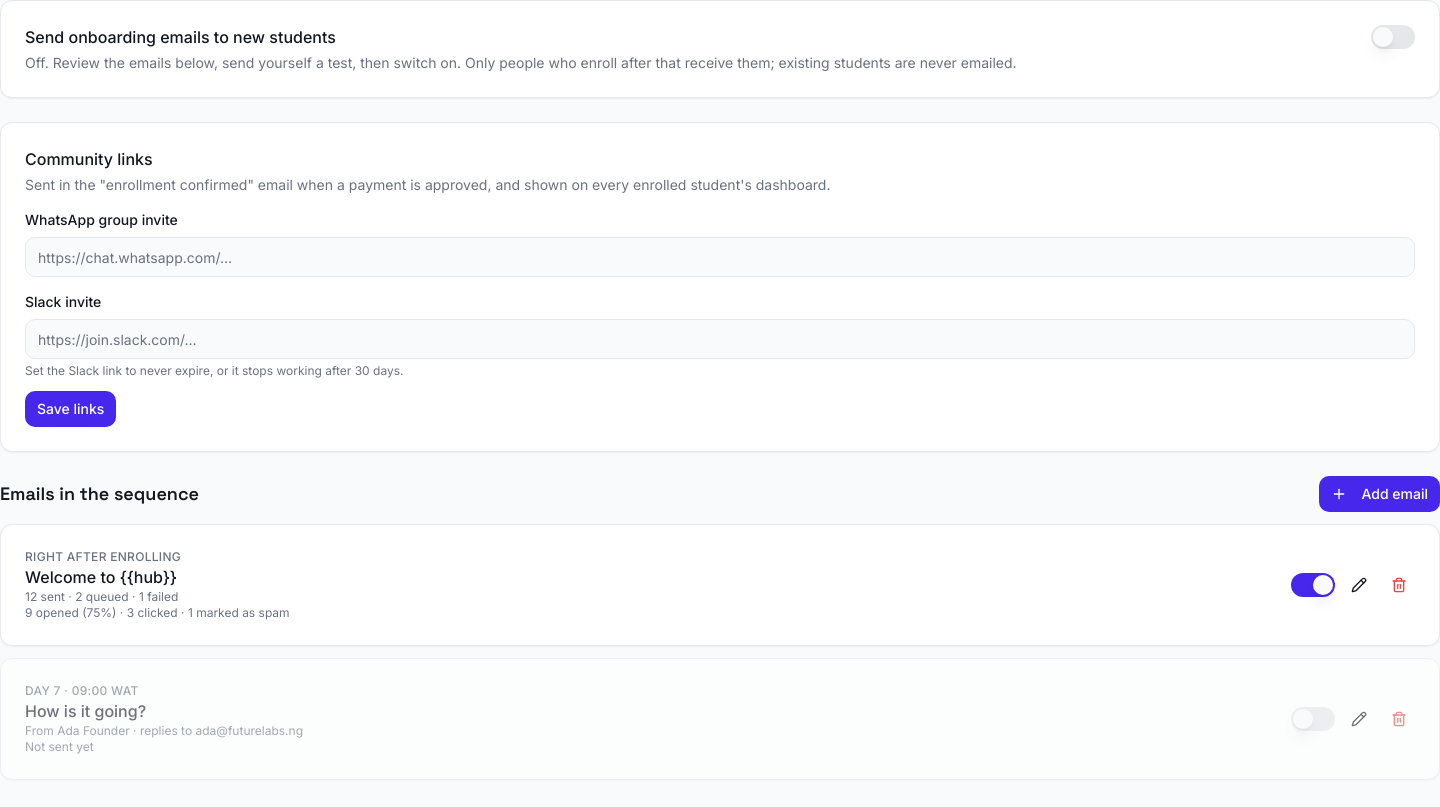
Test: OnboardingPanel › edits a step, sends a test and saves
Later steps or results of the test are not shown.
Click the button named "Edit “Welcome to {{hub}}”".
click(1359, 585)  # box [1343,569,1375,601]
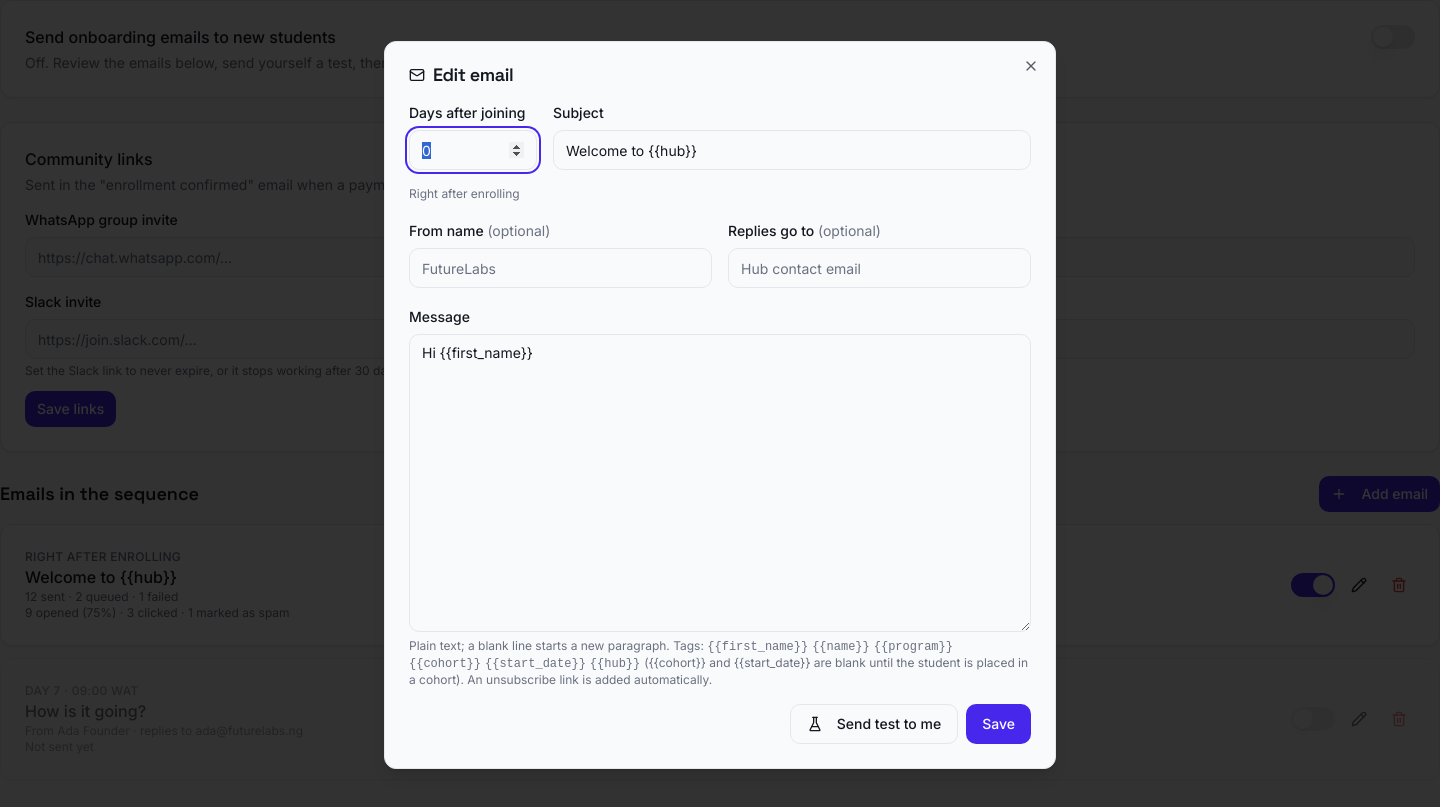
Replace the text in the number field labelled "Days after joining" with "1" at (473, 150), box [409,130,537,170]
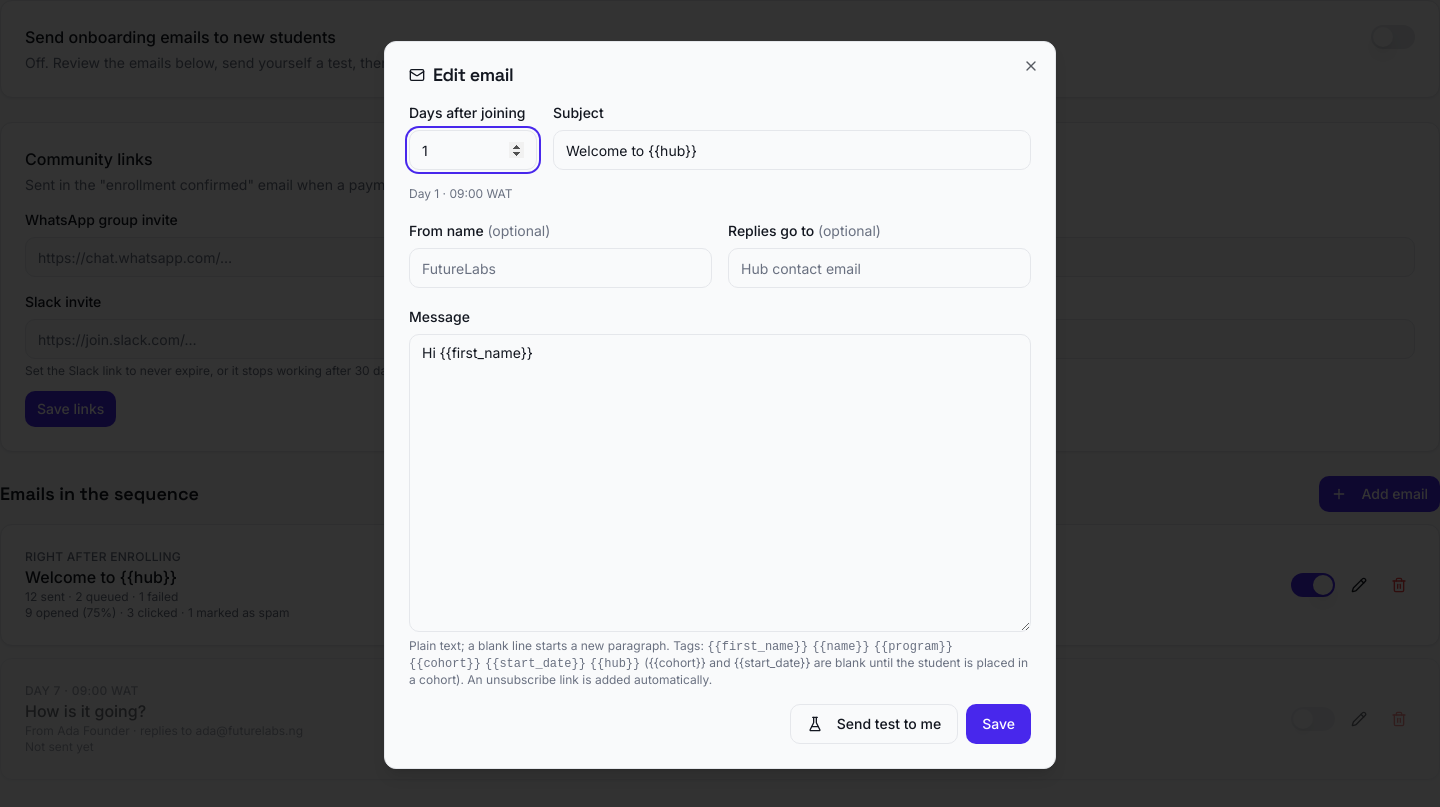
Now the text "Day 1 · 09:00 WAT" is shown, box [409,186,513,201]
Click the button "Send test to me".
click(874, 724)  # box [790,704,958,744]
Now the button "Save" is enabled, box [966,704,1031,744]
